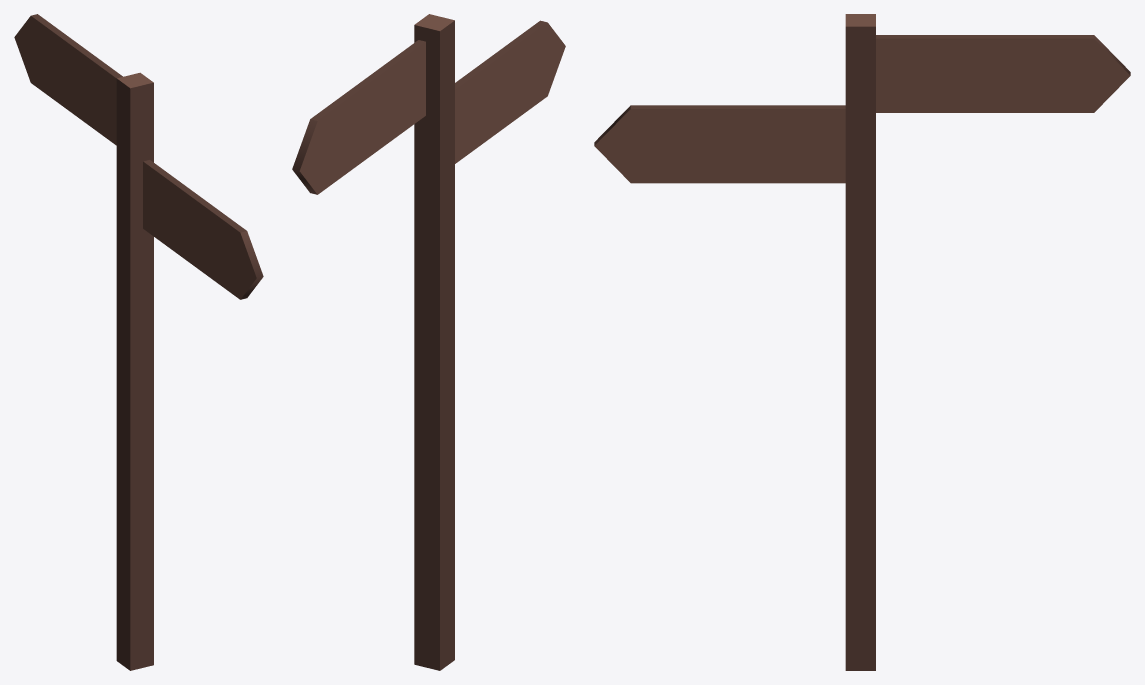
File: Road_sign1.FBX
3 renders of one model, left to right at view 1: azimuth 30°, elevation 25°; view 2: azimuth 150°, elevation 25°; view 3: azimuth 270°, elevation 25°, orthographic. The views are drawn at different scales.
Visible parts, largest first — view 1: Road_sign1; view 2: Road_sign1; view 3: Road_sign1.
Boxes of the visible parts, box(x1,y1,x2,y2) form: Road_sign1: box(14, 14, 263, 670); Road_sign1: box(292, 14, 565, 670); Road_sign1: box(594, 14, 1130, 670).
Size of the model in its own units: 8 by 189 by 143.
